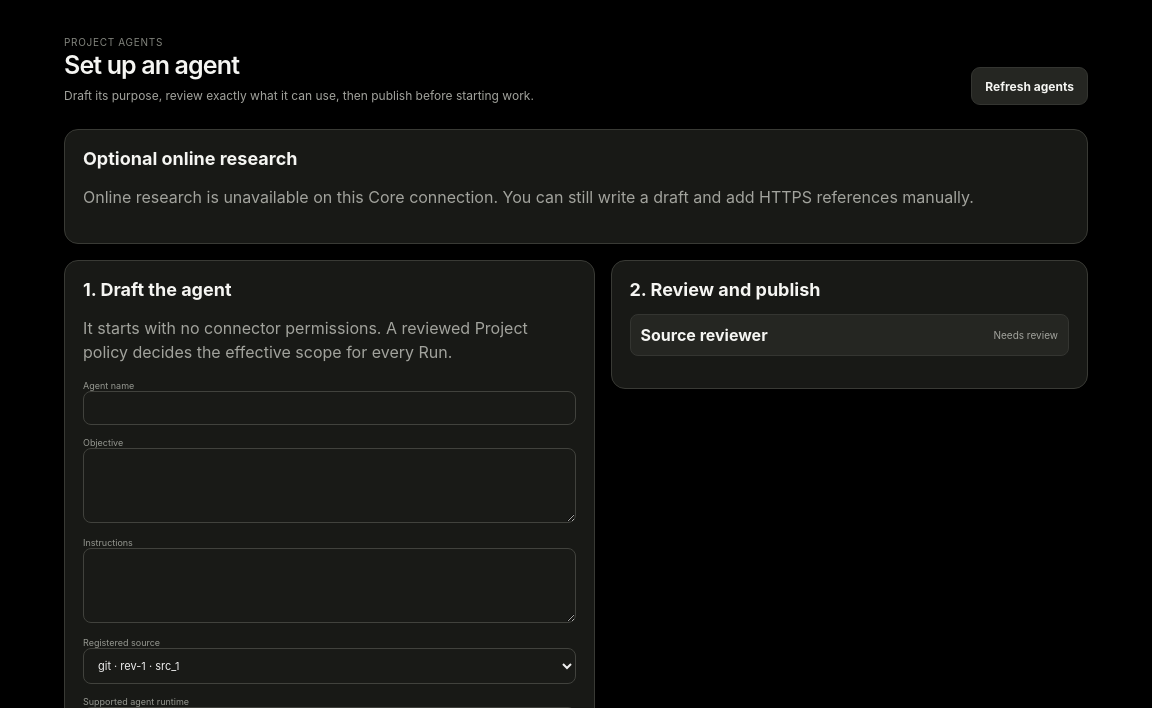
Test: review names the exact credential connection without claiming verified provider identity
This screenshot has width=1152, height=708.
Click the button "Source reviewer Needs review" at (704, 335), box [630, 314, 1069, 356]
(page scrolled)
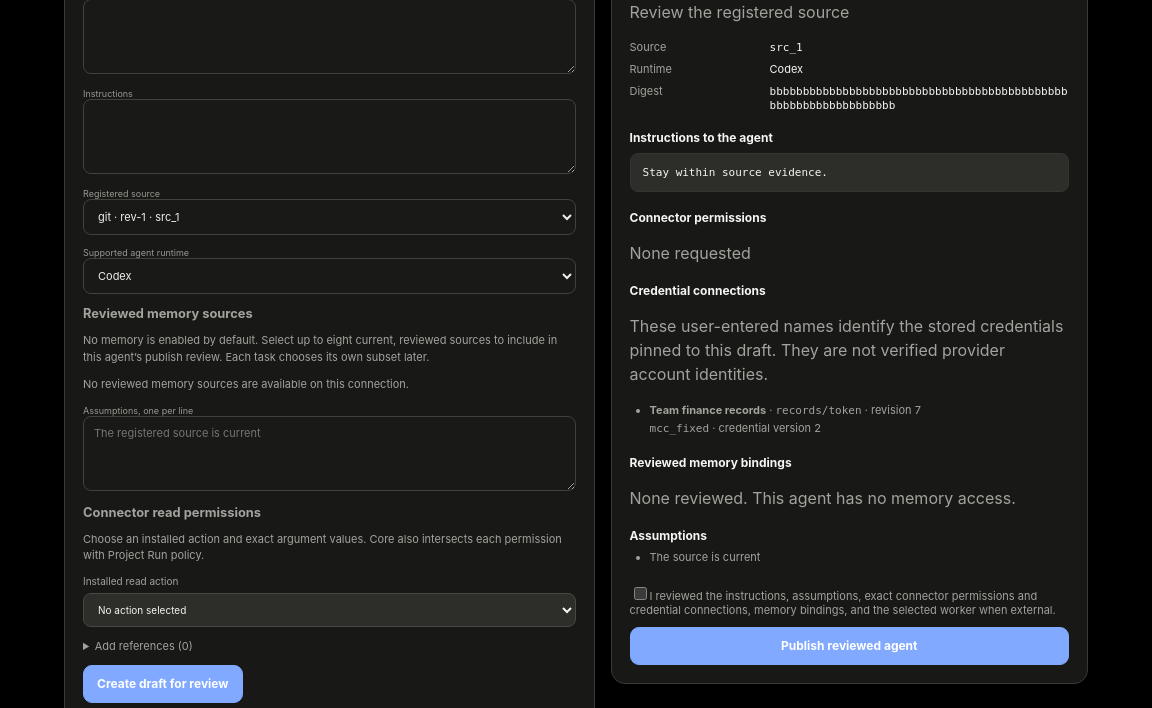
Result: the element named "Credential connections" shows "revision 7" at [630, 283, 1069, 437]
Result: the element named "Credential connections" shows "records/token" at [630, 283, 1069, 437]
